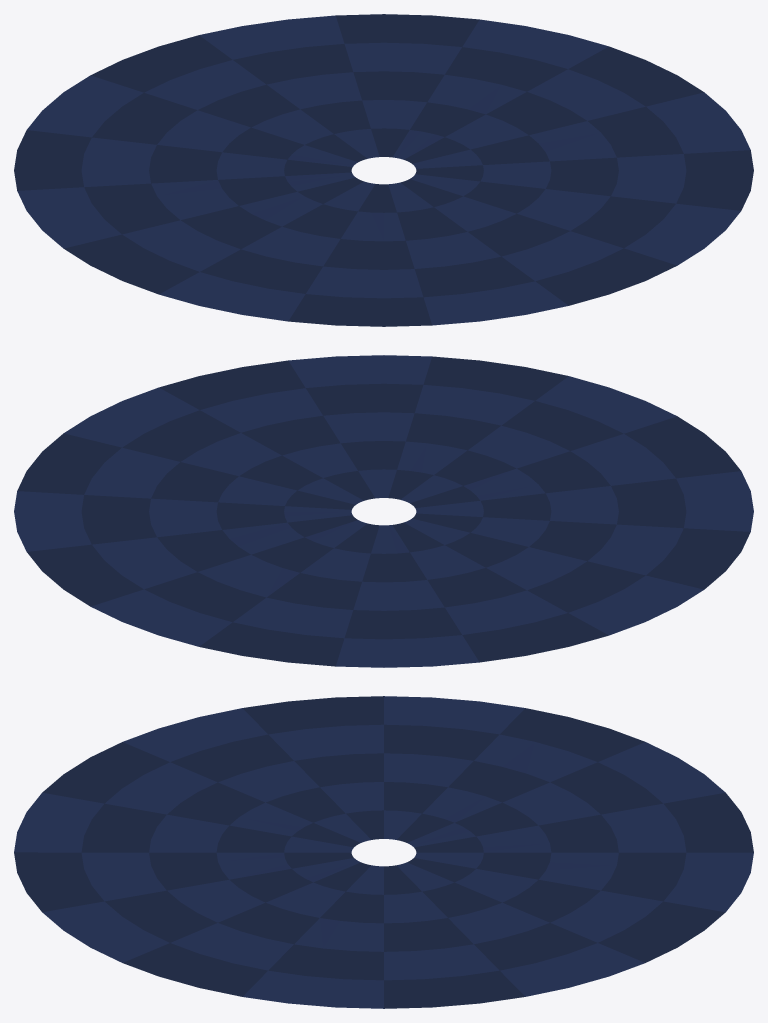
Rendered from W1_Ground_Skirt.fbx.
The picture shows the model from 3 angles, top to bottom: view 1: azimuth 30°, elevation 25°; view 2: azimuth 150°, elevation 25°; view 3: azimuth 270°, elevation 25°; orthographic projection.
Parts seen in each view (by area): view 1: W1_Ground_Skirt; view 2: W1_Ground_Skirt; view 3: W1_Ground_Skirt.
Boxes of the visible parts, x1,y1,x2,y2 form: W1_Ground_Skirt: [14, 14, 753, 326]; W1_Ground_Skirt: [14, 355, 753, 667]; W1_Ground_Skirt: [14, 696, 753, 1008].
Bounding box in the file's own units: 6400 × 2.26 × 6400.
